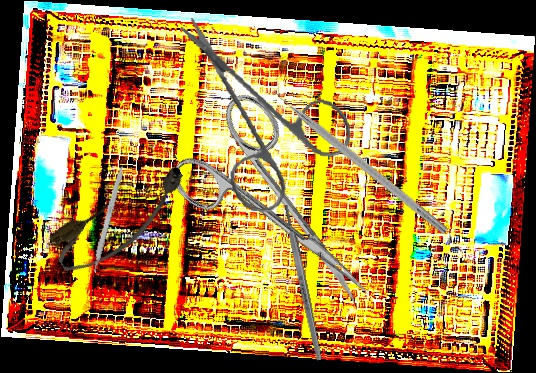Cannula: (44, 157, 200, 283)
Chopper: (264, 74, 458, 236)
Iris Scissors: (156, 85, 405, 343), (159, 16, 363, 222)
Scalpel Handle: (281, 203, 324, 362), (89, 163, 126, 274)
